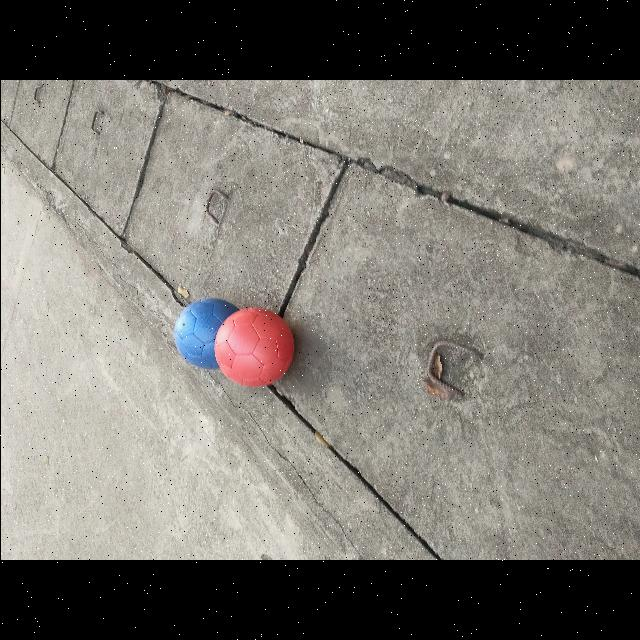B: (174, 298, 236, 369)
R: (214, 308, 292, 387)
